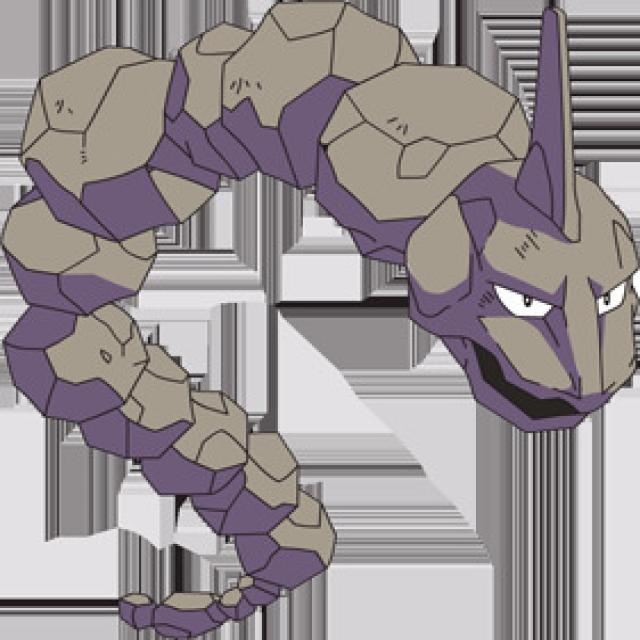Onix: (7, 12, 640, 423)
